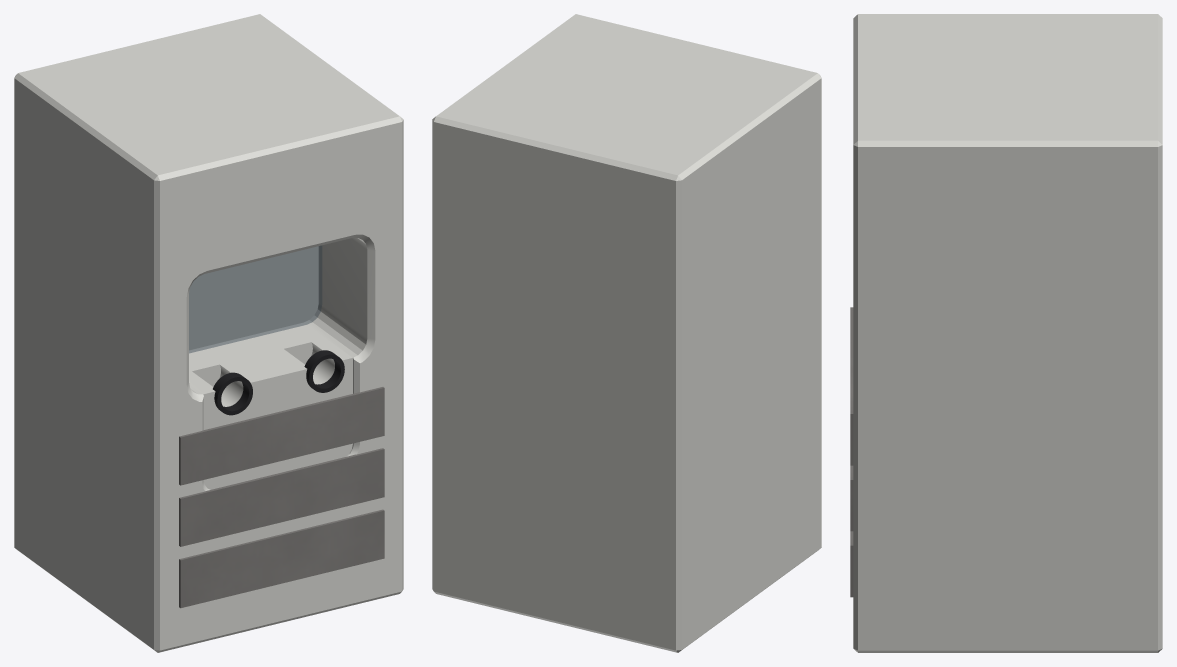
Rendered from ax_util_20_sample_analysis_rack.glb.
3 renders of one model, left to right at view 1: azimuth 30°, elevation 25°; view 2: azimuth 150°, elevation 25°; view 3: azimuth 270°, elevation 25°, orthographic. The views are drawn at different scales.
Parts seen in each view (by area): view 1: housing, drawers, glovebox_window, glove_ports; view 2: housing; view 3: housing, drawers.
Boxes of the visible parts, x1,y1,x2,y2 form: housing: (14, 14, 403, 652); drawers: (179, 387, 384, 608); glovebox_window: (189, 245, 322, 353); glove_ports: (213, 350, 344, 415); housing: (432, 14, 821, 652); housing: (853, 14, 1162, 652); drawers: (850, 307, 853, 597).
Bounding box in the file's own units: 0.98 × 1.79 × 0.99.
4 materials, 1 textured.
